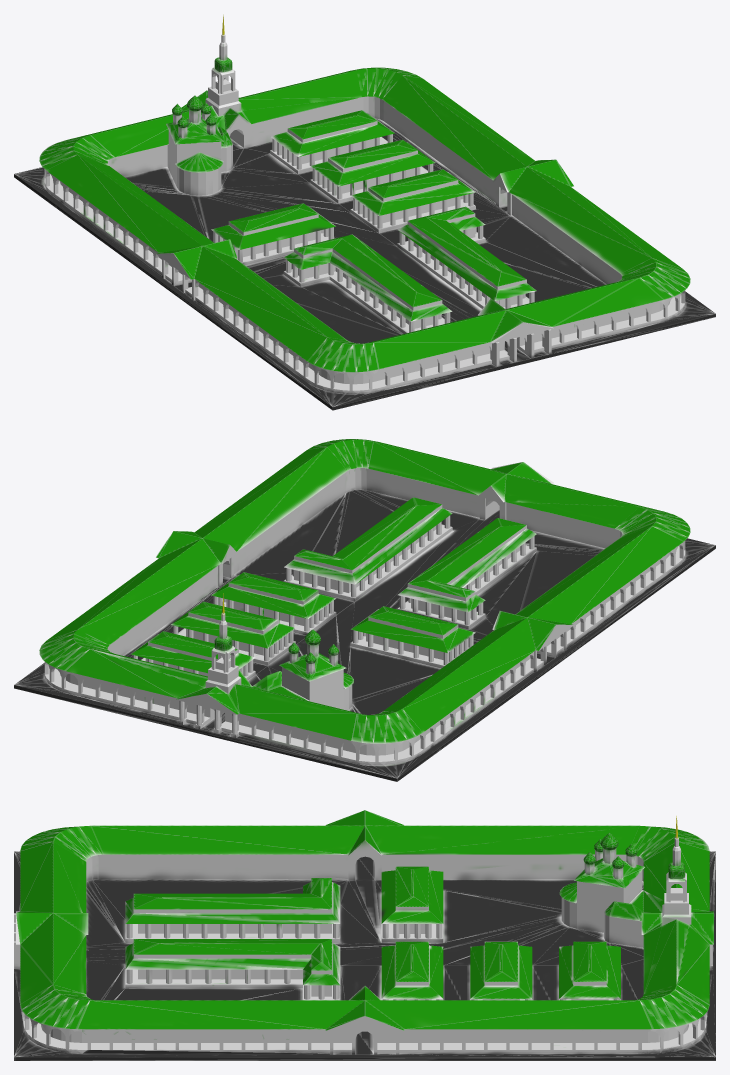
The model's file is RedRowsTextured.obj.
3 views of the same model, one above another, from view 1: azimuth 30°, elevation 25°; view 2: azimuth 150°, elevation 25°; view 3: azimuth 270°, elevation 25° (orthographic). The views are drawn at different scales.
Visible parts, largest first — view 1: Красные_ряды_2; view 2: Красные_ряды_2; view 3: Красные_ряды_2.
Part boxes in pixels (x1,y1,x2,y2): Красные_ряды_2: (14,14,715,410); Красные_ряды_2: (14,439,715,781); Красные_ряды_2: (14,810,715,1060).
Bounding box in the file's own units: 118 × 38 × 170.
1 material, 1 textured.
